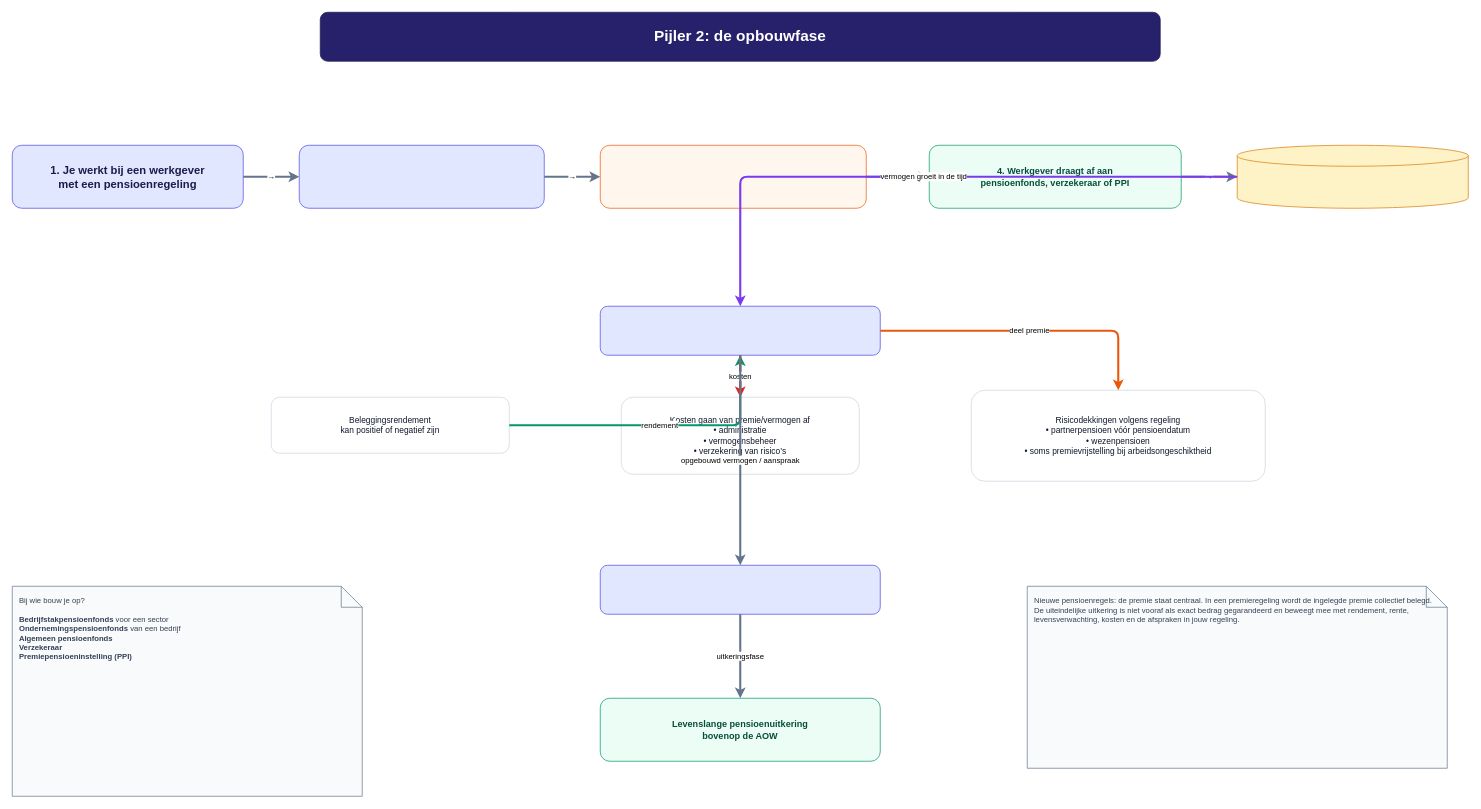
The diagram is 1481 pixels wide and 809 high, and some of its shapes have lost their labels. The box of each missing label's shape, as (x1, y1, x2, y2) in pixels:
2. Pensioengevend salaris minus franchise = pensioengrondslag: (299, 145, 544, 208)
3. Premie over de pensioengrondslag werknemersdeel + werkgeversdeel: (600, 145, 866, 208)
5. Premie wordt collectief belegd en vormt pensioenvermogen: (1237, 145, 1468, 208)
Jarenlange opbouwfase: (600, 306, 880, 355)
Pensioendatum: (600, 565, 880, 614)
